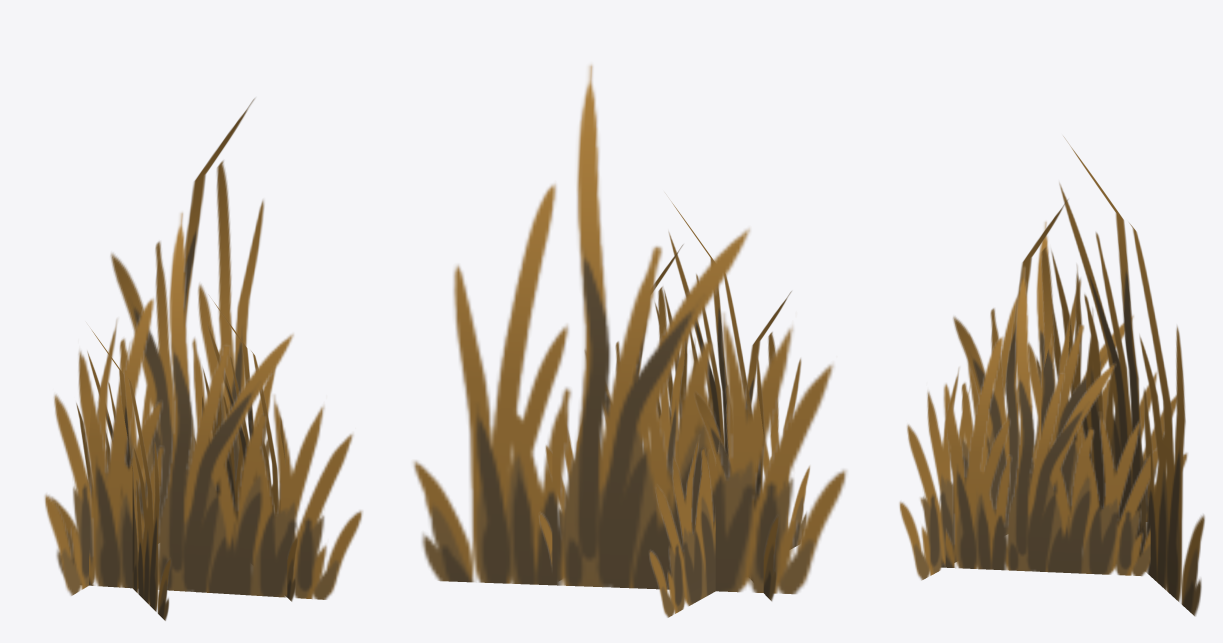
File: env_grass4_painty_01_v1.glb
3 views of the same model, side by side, from view 1: azimuth 30°, elevation 25°; view 2: azimuth 150°, elevation 25°; view 3: azimuth 270°, elevation 25° (orthographic). The views are drawn at different scales.
Visible parts, largest first — view 1: grass_plane.002; view 2: grass_plane.002; view 3: grass_plane.002.
Part boxes in pixels (x1,y1,x2,y2): grass_plane.002: (44,98,362,620); grass_plane.002: (413,64,846,617); grass_plane.002: (899,136,1204,616).
Size of the model in its own units: 0.555 by 0.7006 by 0.4134.
1 material, 1 textured.
